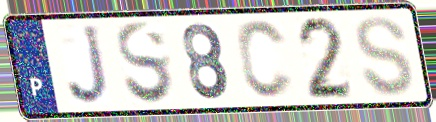2: (296, 14, 355, 101)
8: (180, 21, 230, 102)
C: (234, 18, 297, 103)
J: (65, 22, 113, 108)
S: (113, 19, 177, 108), (353, 13, 417, 99)
